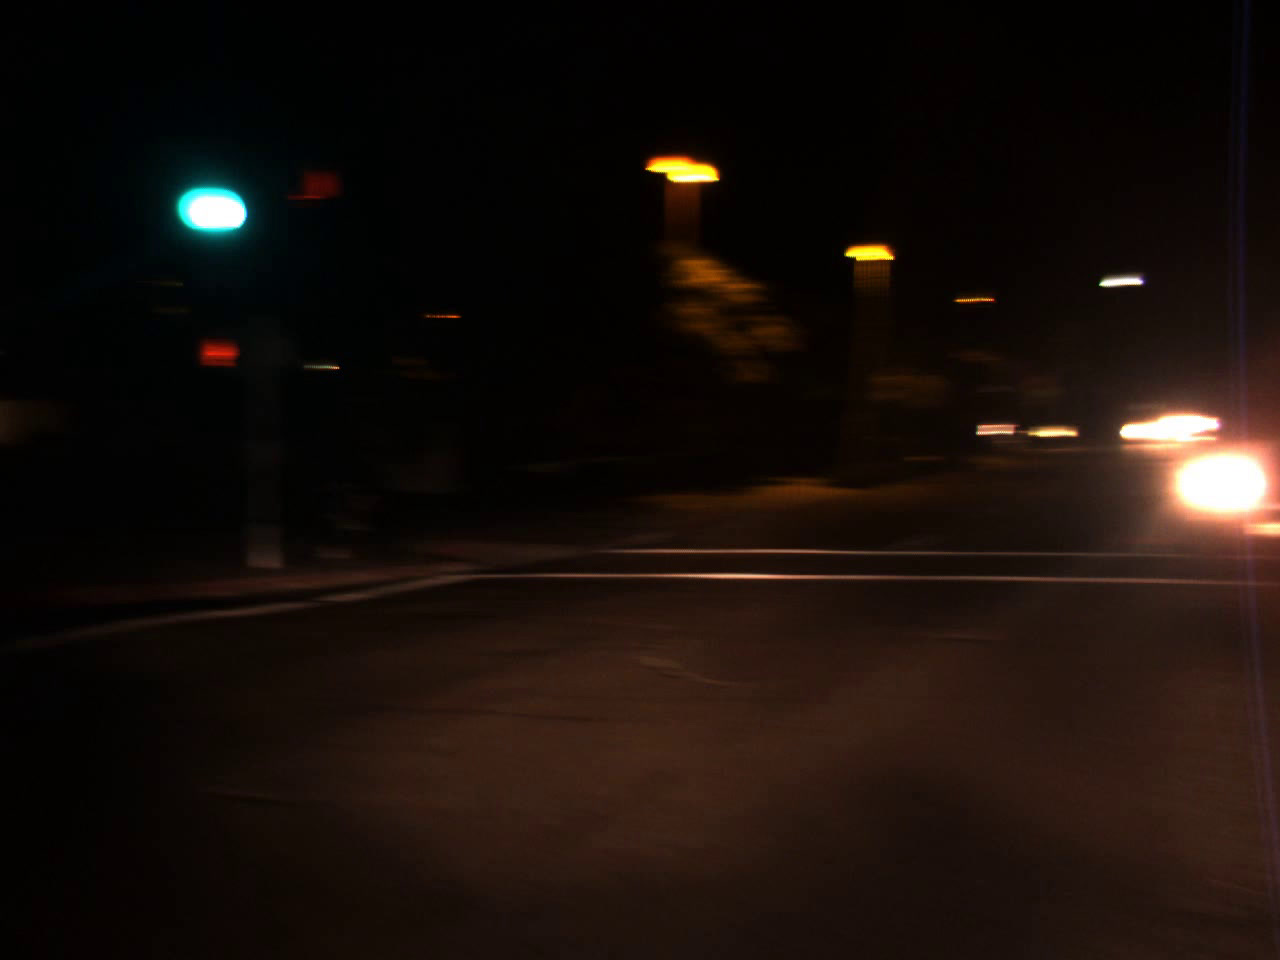go: (167, 137, 255, 245)
